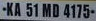character: (82, 3, 91, 19), (42, 3, 52, 17), (6, 1, 14, 17), (14, 2, 22, 17), (25, 2, 33, 16), (33, 2, 40, 17), (70, 3, 77, 18), (76, 3, 83, 18), (52, 3, 59, 17), (63, 3, 70, 17)
